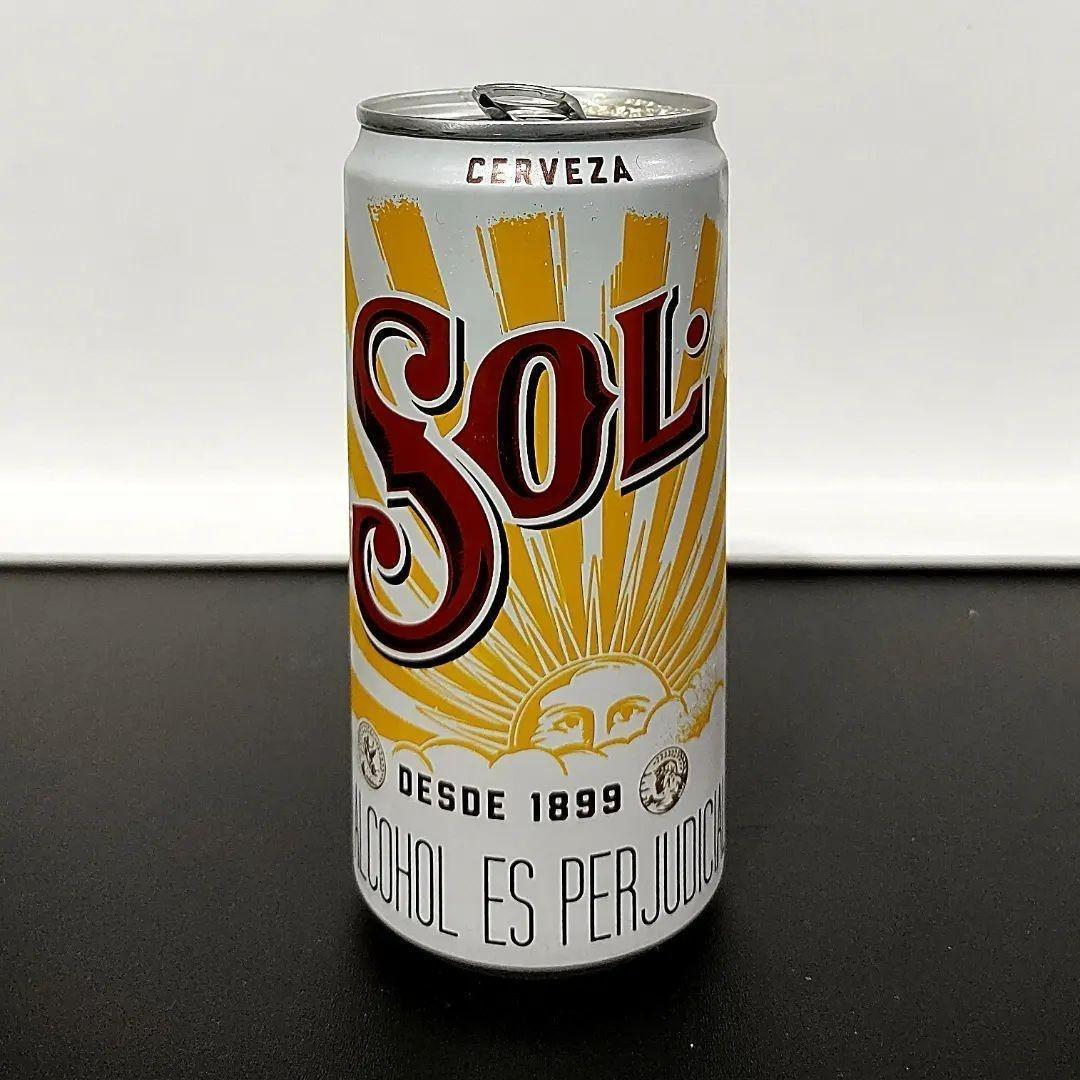tin can: (327, 67, 751, 977)
